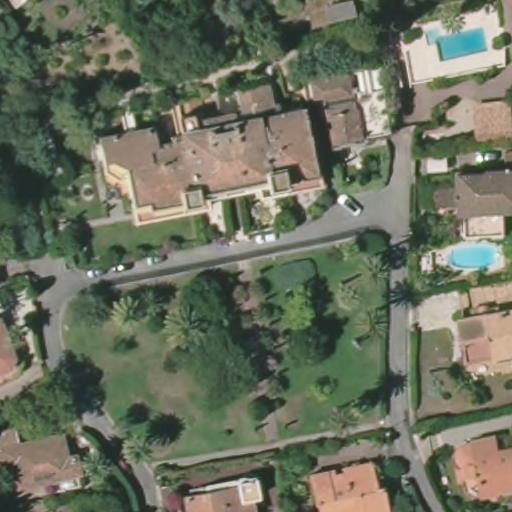pool: (420, 20, 489, 58), (446, 240, 501, 271)
